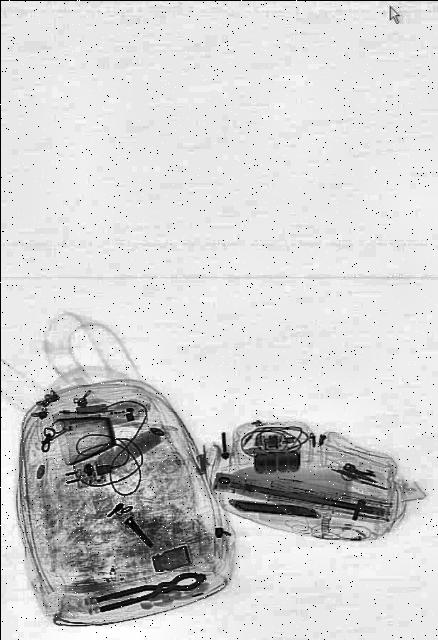Pliers: (93, 566, 203, 614)
